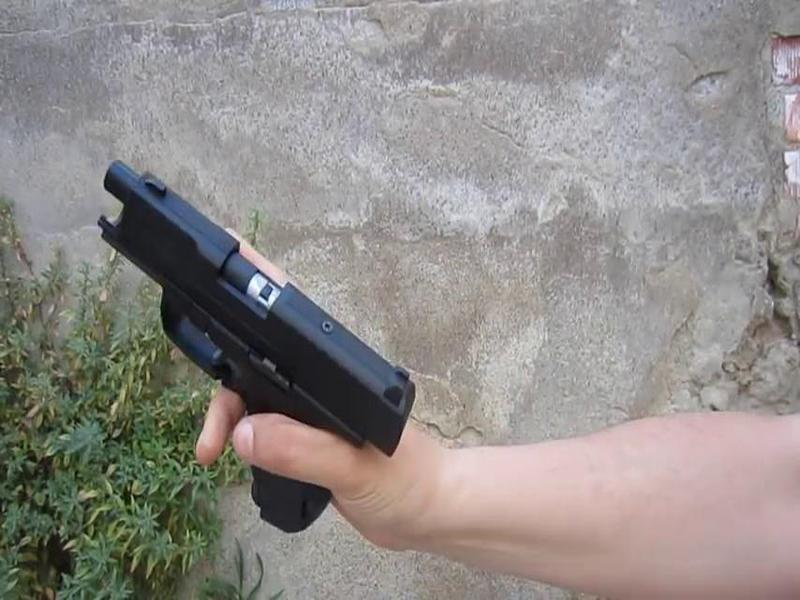Pistola: (49, 128, 423, 558)
